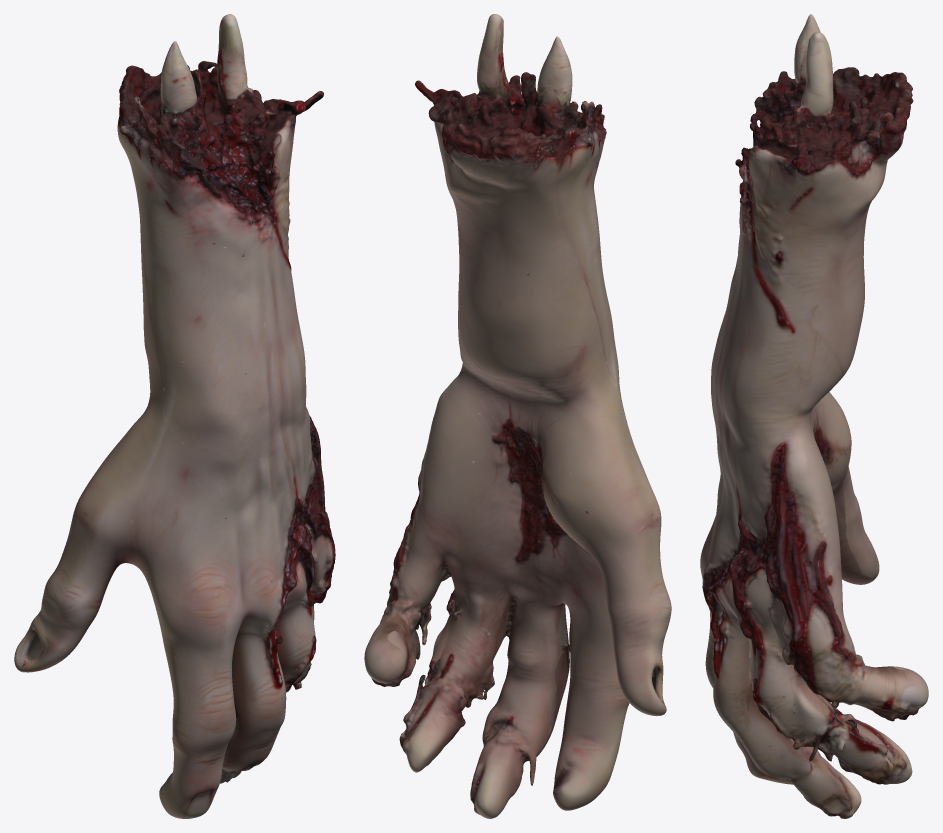
The picture shows the model from 3 angles, left to right: view 1: azimuth 30°, elevation 25°; view 2: azimuth 150°, elevation 25°; view 3: azimuth 270°, elevation 25°; orthographic projection.
Bounding box in the file's own units: 0.7663 × 1.99 × 0.5228.
Materials: 1 (1 with a texture image).
